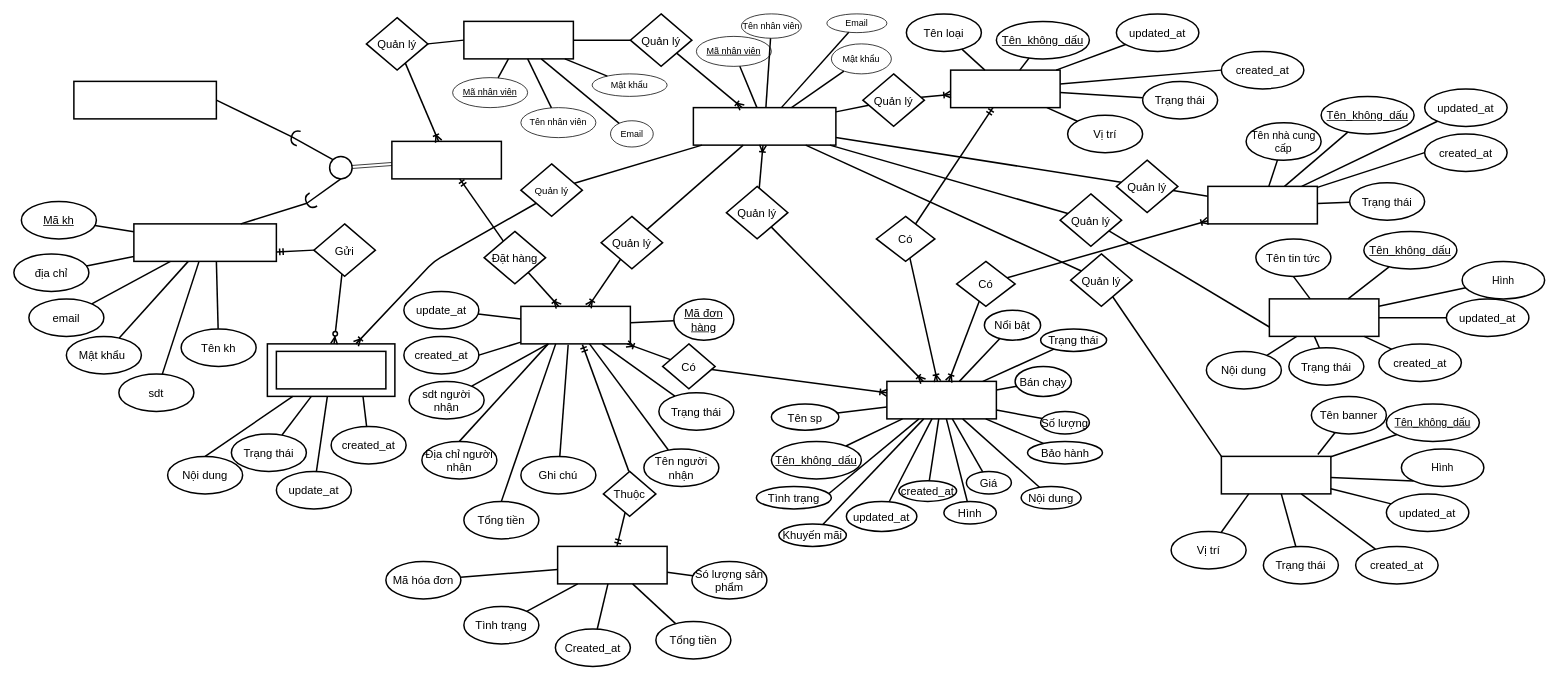
Some shapes in this 1558 by 680 pixel diagram are drawn without their labels. Here are the shapes that lost their labels. From the top down, the centre of each, then its label:
pixel 518 39: NHÂN VIÊN QUẢN LÝ
pixel 145 99: KHÁCH HÀNG VÃNG LAI
pixel 1005 88: LOẠI SẢN PHẨM
pixel 764 126: NHÂN VIÊN KINH DOANH
pixel 446 159: KHÁCH HÀNG
pixel 1262 204: NHÀ CUNG CẤP
pixel 205 242: KHÁCH HÀNG THÀNH VIÊN
pixel 575 324: ĐƠN HÀNG
pixel 1323 317: TIN TỨC
pixel 330 369: GÓP Ý
pixel 941 399: SẢN PHẨM
pixel 1275 474: BANNER
pixel 612 564: HOADON
